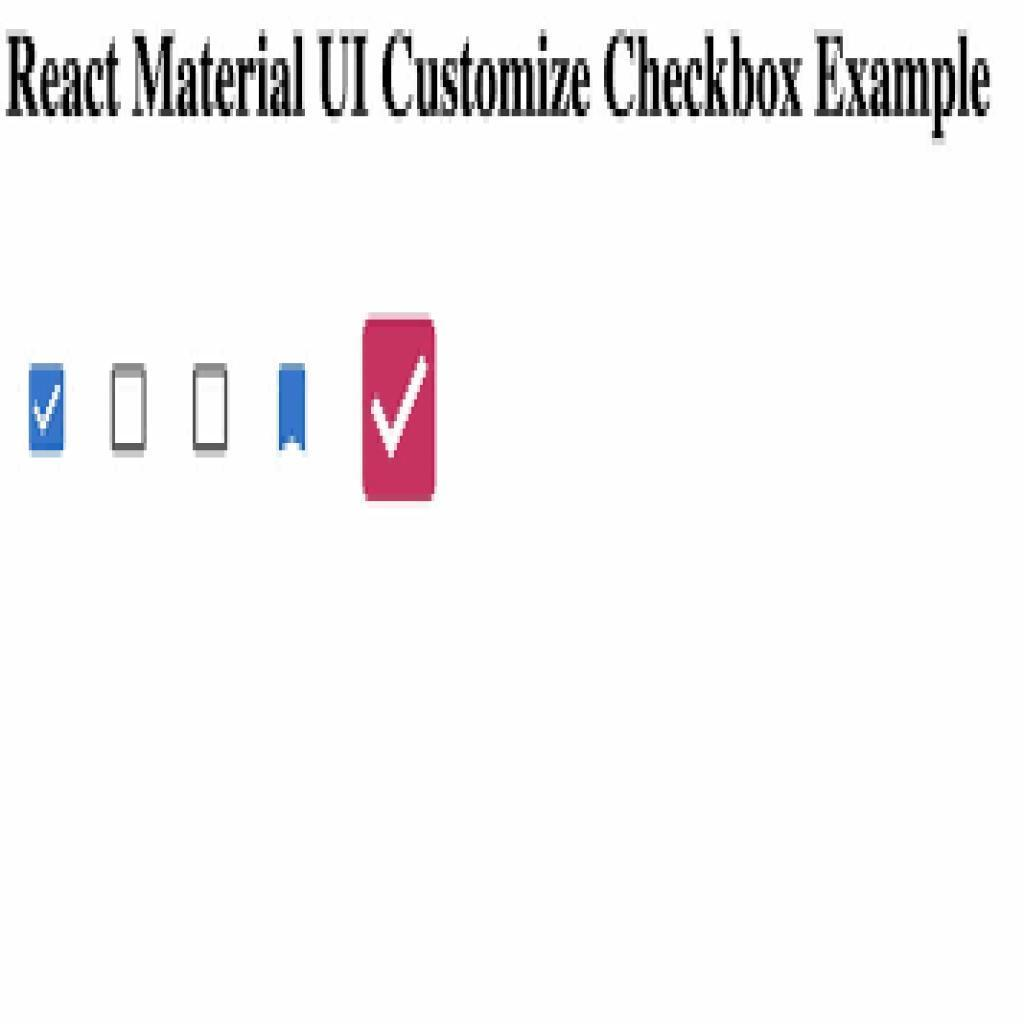checkbox: (363, 319, 439, 499), (29, 366, 65, 453), (194, 366, 228, 452), (113, 367, 146, 452)
